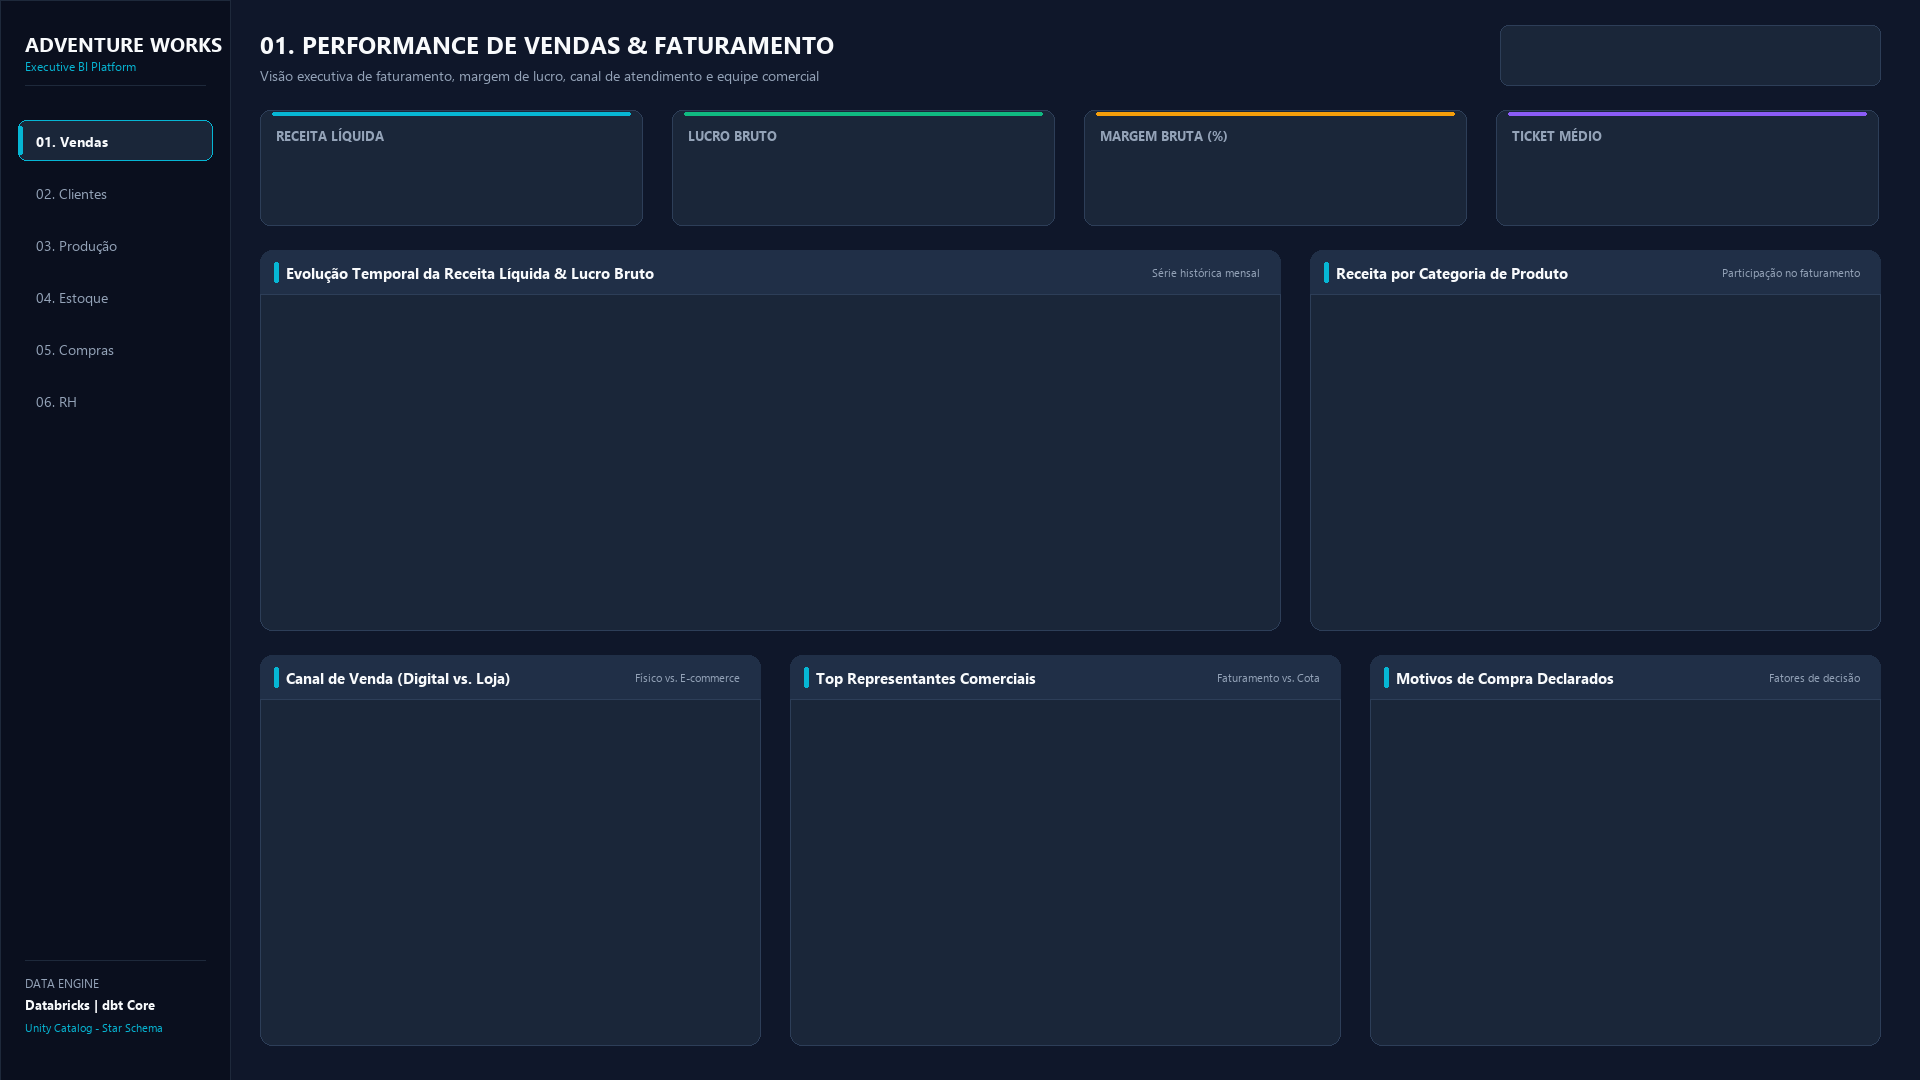

The dashboard page shown, as its layout file describes it:
{"tool":"powerbi","page":{"name":"Vendas","canvas":[1920,1080],"ordinal":0},"visuals":[{"type":"slicer","fields":{"Values":["dates.calendar_date"]},"box":[1510,35,360,45],"z":0},{"type":"cardVisual","fields":{"Data":["d_Medidas.Receita Líquida"]},"box":[260,140,380,75],"z":1000},{"type":"cardVisual","fields":{"Data":["d_Medidas.Lucro Bruto"]},"box":[670,140,380,75],"z":2000},{"type":"cardVisual","fields":{"Data":["d_Medidas.Margem Bruta %"]},"box":[1080,140,380,75],"z":3000},{"type":"cardVisual","fields":{"Data":["d_Medidas.Ticket Médio"]},"box":[1490,140,380,75],"z":4000},{"type":"lineClusteredColumnComboChart","fields":{"Category":["dates.calendar_date.Variation.Hierarquia de datas.Ano","dates.calendar_date.Variation.Hierarquia de datas.Mês"],"Y":["d_Medidas.Receita Líquida"],"Y2":["d_Medidas.Margem Bruta %"]},"box":[270,298,1000,320],"z":5000},{"type":"clusteredColumnChart","fields":{"Category":["products.category_name"],"Y":["d_Medidas.Receita Líquida"]},"box":[1320,298,550,320],"z":6000},{"type":"donutChart","fields":{"Category":["sales.sales_channel"],"Y":["d_Medidas.Receita Líquida"]},"box":[270,702,480,320],"z":7000},{"type":"clusteredColumnChart","fields":{"Category":["sales_reps.sales_person_name"],"Y":["d_Medidas.Receita Líquida"]},"box":[800,702,530,330],"z":8000},{"type":"clusteredBarChart","fields":{"Category":["sales.sales_reasons_list"],"Y":["d_Medidas.Total Pedidos"]},"box":[1380,702,490,330],"z":9000}]}

Visuals, with their boxes on the page's 1920x1080 design canvas (x1, y1, x2, y2). These are canvas units, not pixel positions in the 1920x1080 screenshot, which may show the page scaled, cropped or inside an application window:
slicer - dates.calendar_date: x1=1510, y1=35, x2=1870, y2=80
cardVisual - d_Medidas.Receita Líquida: x1=260, y1=140, x2=640, y2=215
cardVisual - d_Medidas.Lucro Bruto: x1=670, y1=140, x2=1050, y2=215
cardVisual - d_Medidas.Margem Bruta %: x1=1080, y1=140, x2=1460, y2=215
cardVisual - d_Medidas.Ticket Médio: x1=1490, y1=140, x2=1870, y2=215
lineClusteredColumnComboChart - dates.calendar_date.Variation.Hierarquia de datas.Ano x dates.calendar_date.Variation.Hierarquia de datas.Mês: x1=270, y1=298, x2=1270, y2=618
clusteredColumnChart - products.category_name x d_Medidas.Receita Líquida: x1=1320, y1=298, x2=1870, y2=618
donutChart - sales.sales_channel x d_Medidas.Receita Líquida: x1=270, y1=702, x2=750, y2=1022
clusteredColumnChart - sales_reps.sales_person_name x d_Medidas.Receita Líquida: x1=800, y1=702, x2=1330, y2=1032
clusteredBarChart - sales.sales_reasons_list x d_Medidas.Total Pedidos: x1=1380, y1=702, x2=1870, y2=1032
